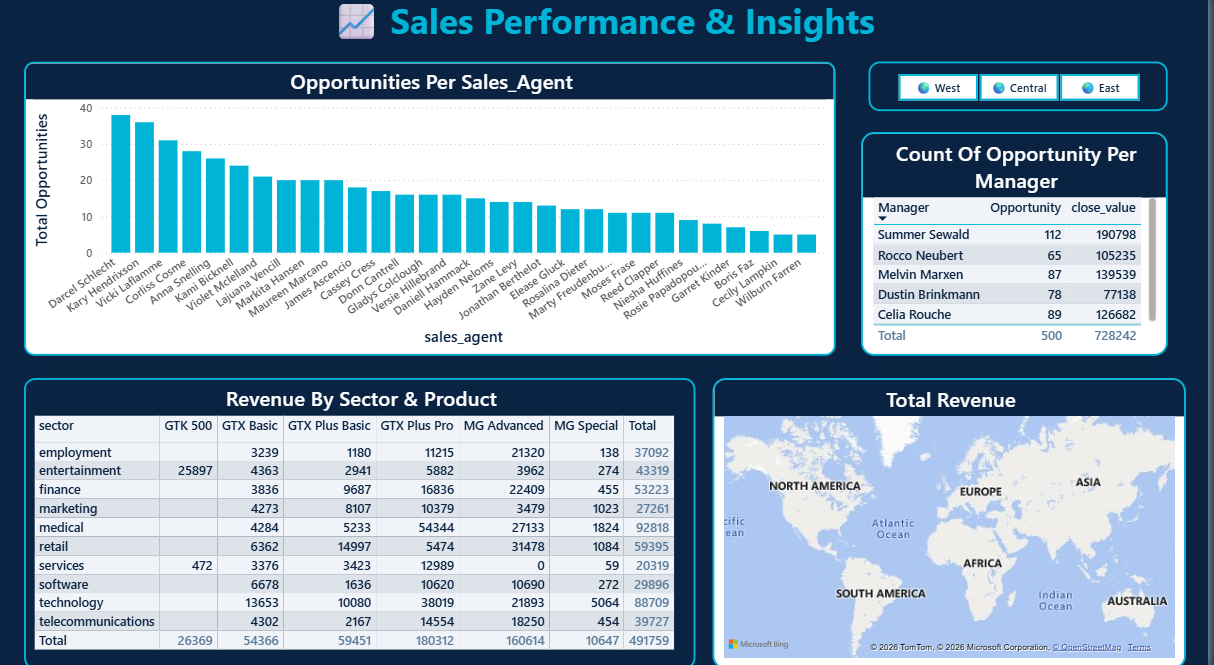

This screenshot's page, from the dashboard's own definition file:
{"tool":"powerbi","page":{"name":"Sales Performance","canvas":[1280,720],"ordinal":1},"visuals":[{"type":"clusteredColumnChart","title":"Opportunities Per Sales_Agent","fields":{"Category":["sales teams.sales_agent"],"Y":["Table.Total Opportunities"]},"box":[24.8,74.5,860.7,311.7],"z":0},{"type":"textbox","box":[0,0,1280,74.5],"z":1000},{"type":"tableEx","title":"Count Of Opportunity Per Manager","fields":{"Values":["sales teams.manager","sales pipeline.opportunity_id","Sum(sales pipeline.close_value)"]},"box":[913.1,149,325.5,237.2],"z":2000},{"type":"pivotTable","title":"Revenue By Sector & Product","fields":{"Columns":["products.product"],"Values":["Sum(sales pipeline.close_value)"],"Rows":["accounts_csv.sector"]},"box":[24.8,411,711.7,309],"z":3000},{"type":"filledMap","box":[755.9,411,502.1,309],"z":4000},{"type":"slicer","fields":{"Values":["sales teams.Region Icon"]},"box":[921.4,74.5,317.2,52.4],"z":5000}]}

Visuals, with their boxes in screenshot pixels (x1, y1, x2, y2), scaled from the page's 1280x720 canvas onto the 1214x665 screenshot:
"Opportunities Per Sales_Agent" clusteredColumnChart: detection(24, 69, 840, 357)
textbox: detection(0, 0, 1213, 69)
"Count Of Opportunity Per Manager" tableEx: detection(866, 138, 1175, 357)
"Revenue By Sector & Product" pivotTable: detection(24, 380, 699, 664)
filledMap: detection(717, 380, 1193, 664)
slicer - sales teams.Region Icon: detection(874, 69, 1175, 117)
